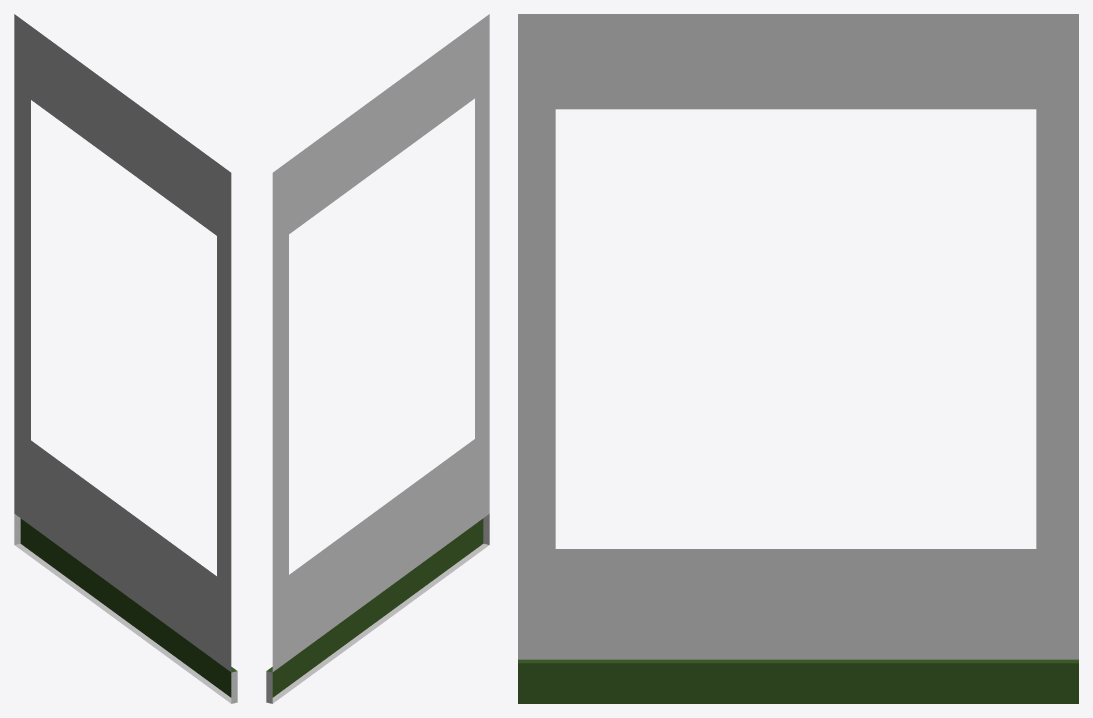
Rendered from murobucato.fbx.
3 renders of one model, left to right at view 1: azimuth 30°, elevation 25°; view 2: azimuth 150°, elevation 25°; view 3: azimuth 270°, elevation 25°, orthographic. The views are drawn at different scales.
Visible parts, largest first — view 1: Plane; view 2: Plane; view 3: Plane.
Boxes of the visible parts, box(x1,y1,x2,y2) form: Plane: box(14, 14, 237, 703); Plane: box(266, 14, 489, 703); Plane: box(518, 14, 1078, 703).
Bounding box in the file's own units: 6.5 × 540 × 400.
